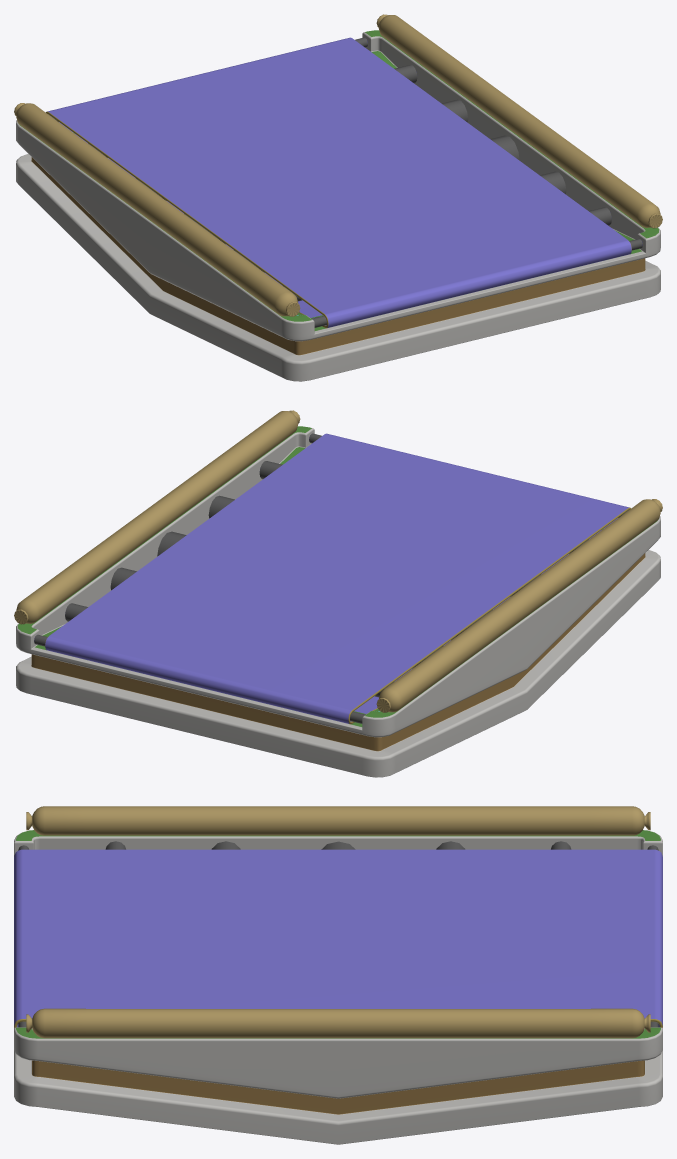
The model's file is SM_Booster_Platform_01.fbx.
The picture shows the model from 3 angles, top to bottom: view 1: azimuth 30°, elevation 25°; view 2: azimuth 150°, elevation 25°; view 3: azimuth 270°, elevation 25°; orthographic projection. The views are drawn at different scales.
Parts seen in each view (by area): view 1: SM_Booster_Platform_01.002, SM_Booster_Sausage_Barrier_02; view 2: SM_Booster_Platform_01.002, SM_Booster_Sausage_Barrier_02; view 3: SM_Booster_Platform_01.002, SM_Booster_Sausage_Barrier_02.
Boxes of the visible parts, x1,y1,x2,y2 form: SM_Booster_Platform_01.002: (16, 30, 660, 381); SM_Booster_Sausage_Barrier_02: (14, 14, 662, 316); SM_Booster_Platform_01.002: (16, 426, 660, 777); SM_Booster_Sausage_Barrier_02: (14, 410, 662, 712); SM_Booster_Platform_01.002: (14, 830, 662, 1144); SM_Booster_Sausage_Barrier_02: (26, 806, 650, 1038).
Size of the model in its own units: 1361 by 386 by 1737.
